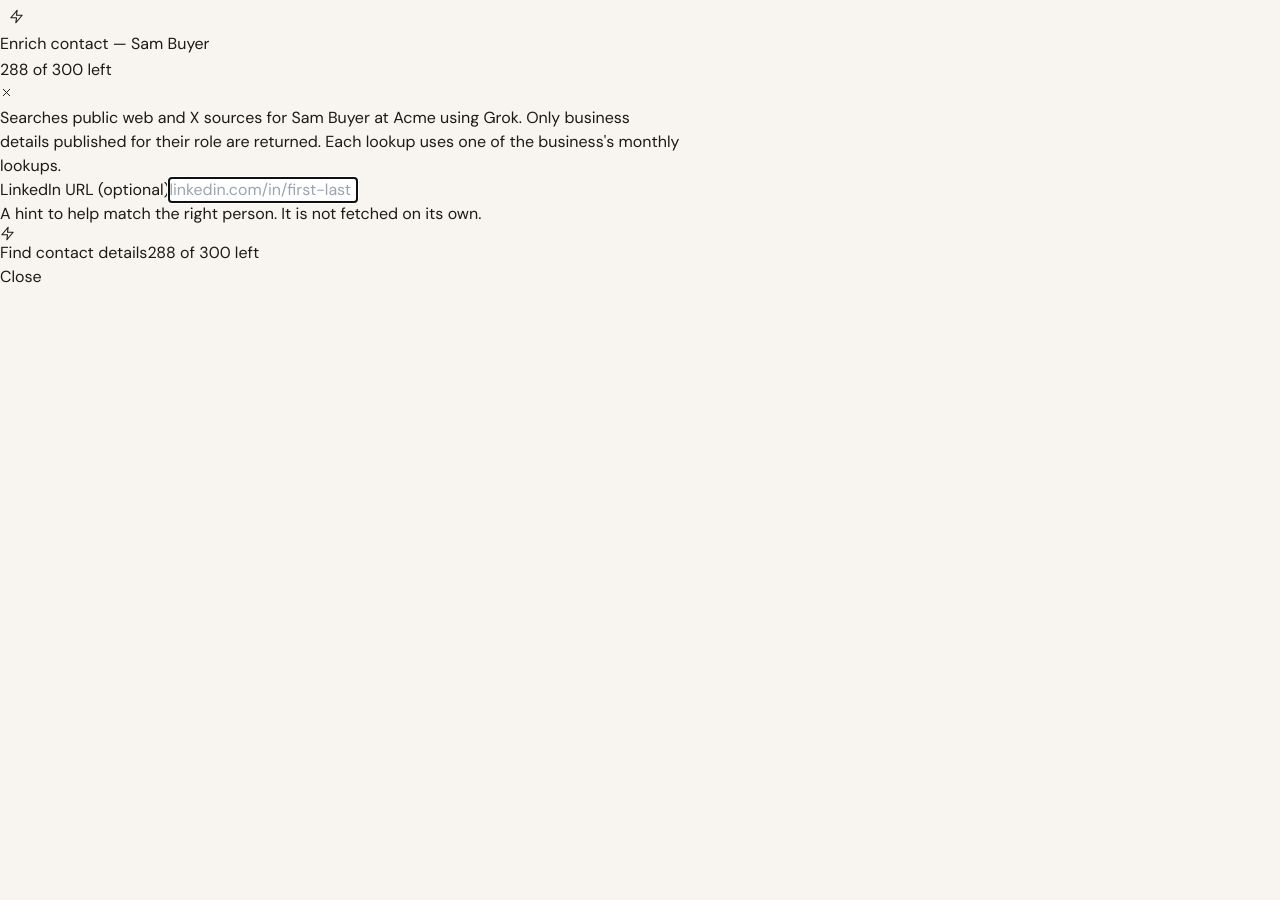
Test: Enrich modal: email check on apply › ok: applies silently and keeps published = Unverified
Click the button "Find contact details" at (74, 246), box [0,226,147,265]
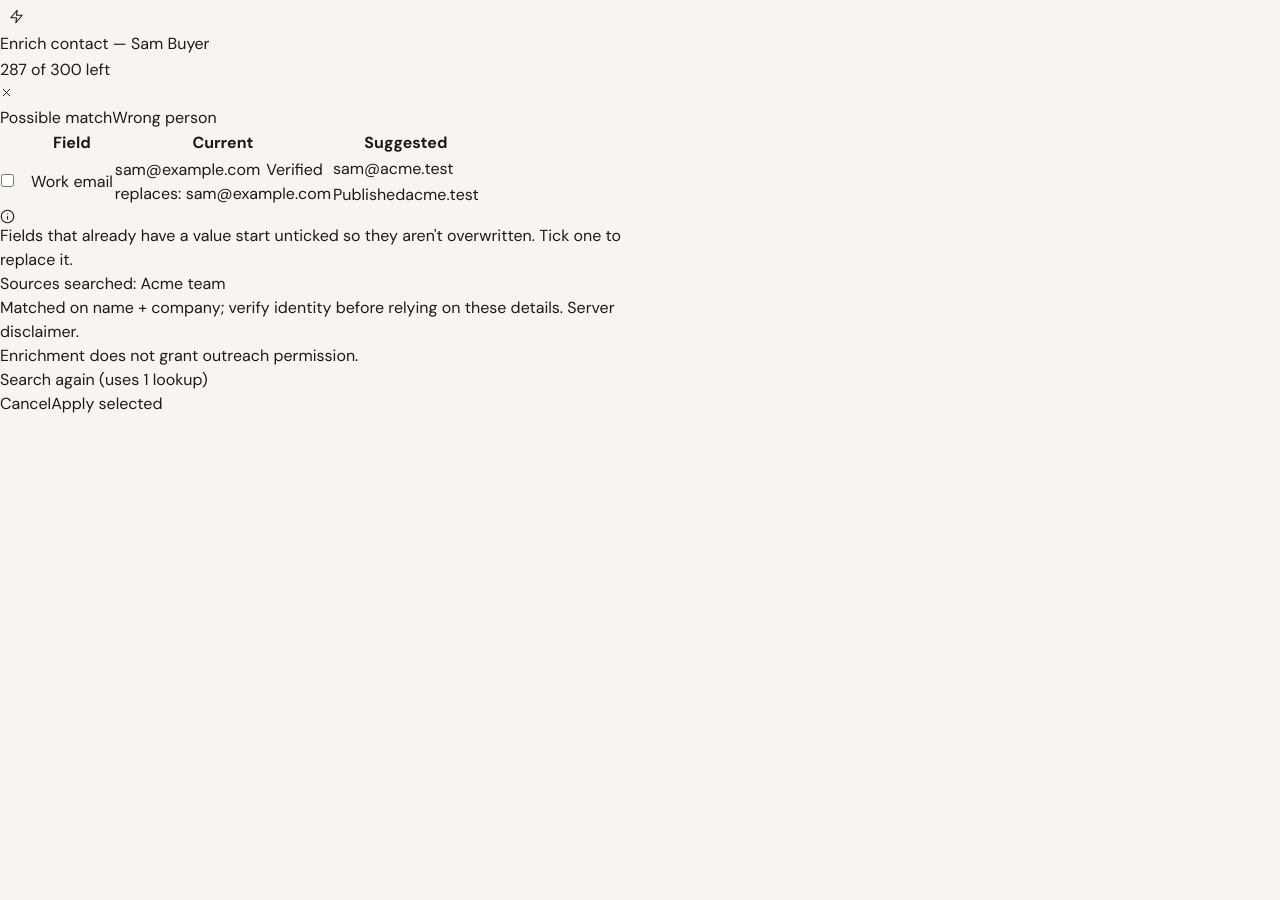
Click the checkbox named "Apply Work email sam@acme.test" at (8, 180), box [1,174,14,187]
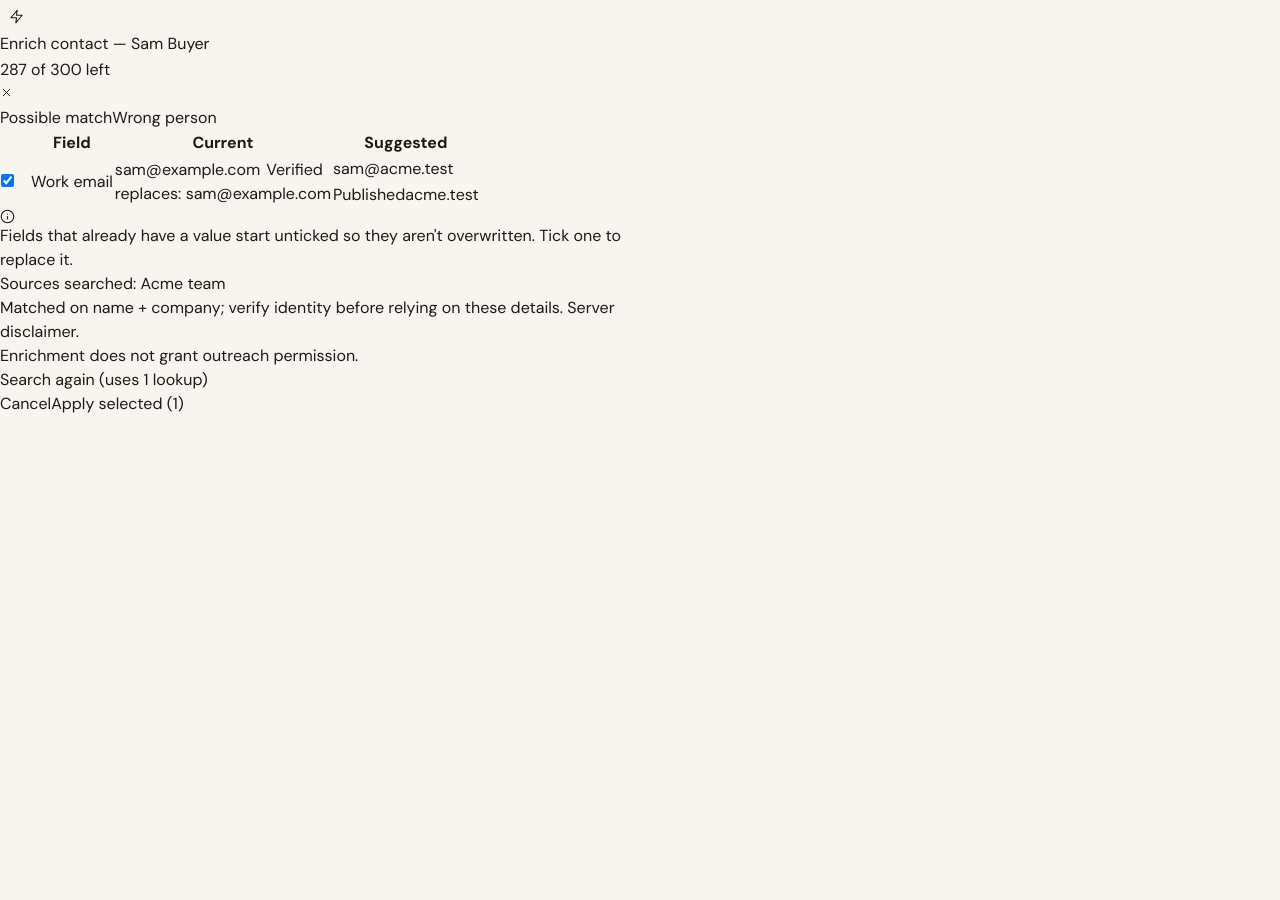
Click the button "Apply selected (1)" at (117, 404), box [51,392,184,416]
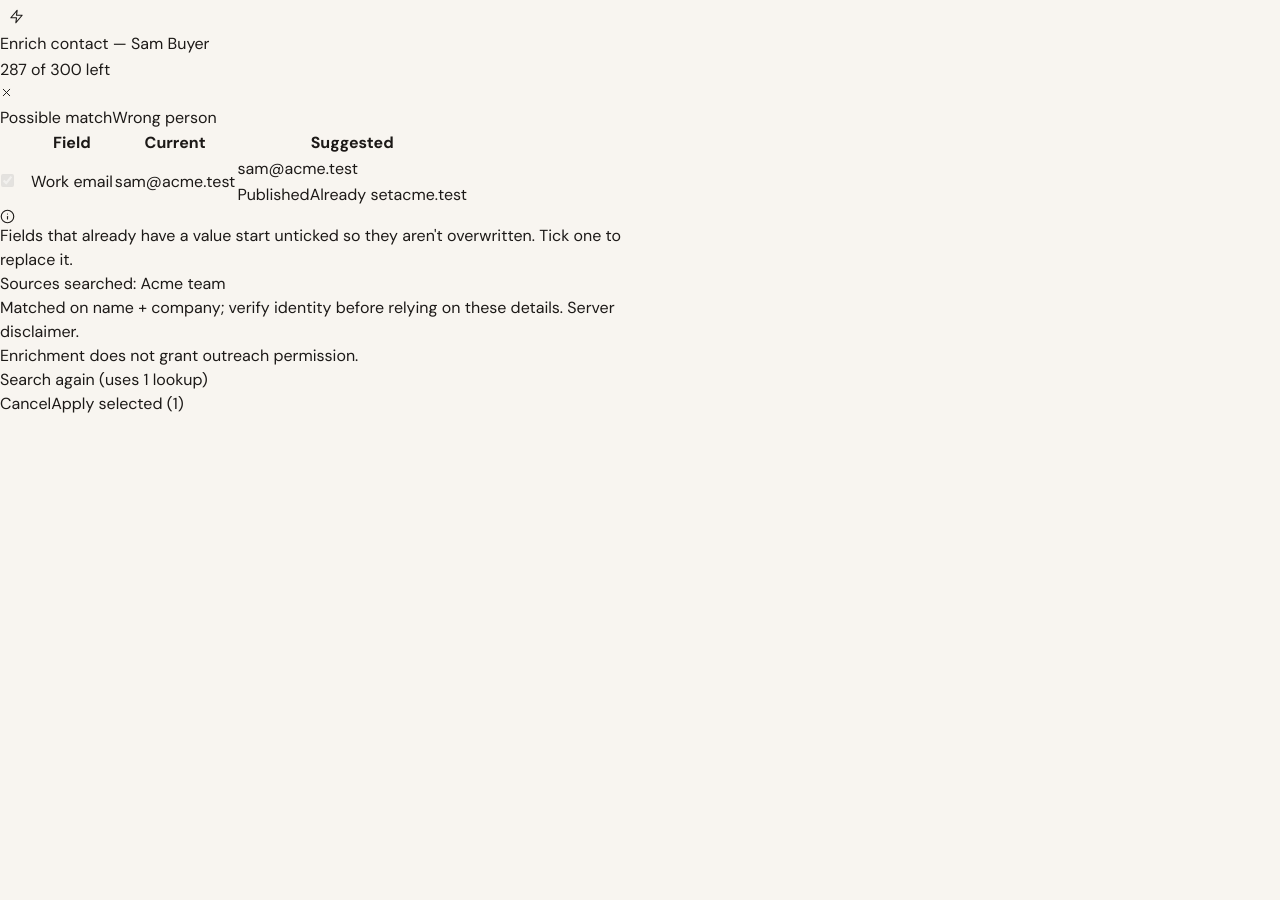
Check: the cell "sam@acme.test" is shown, box [114,156,236,208]
